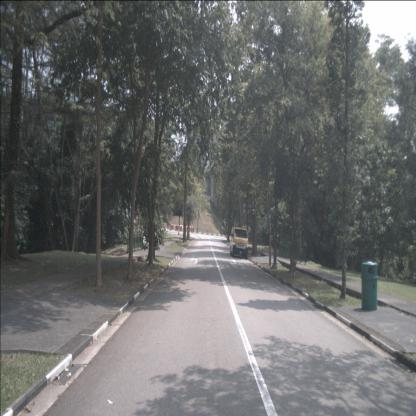vehicle-car: (230, 226, 249, 259)
